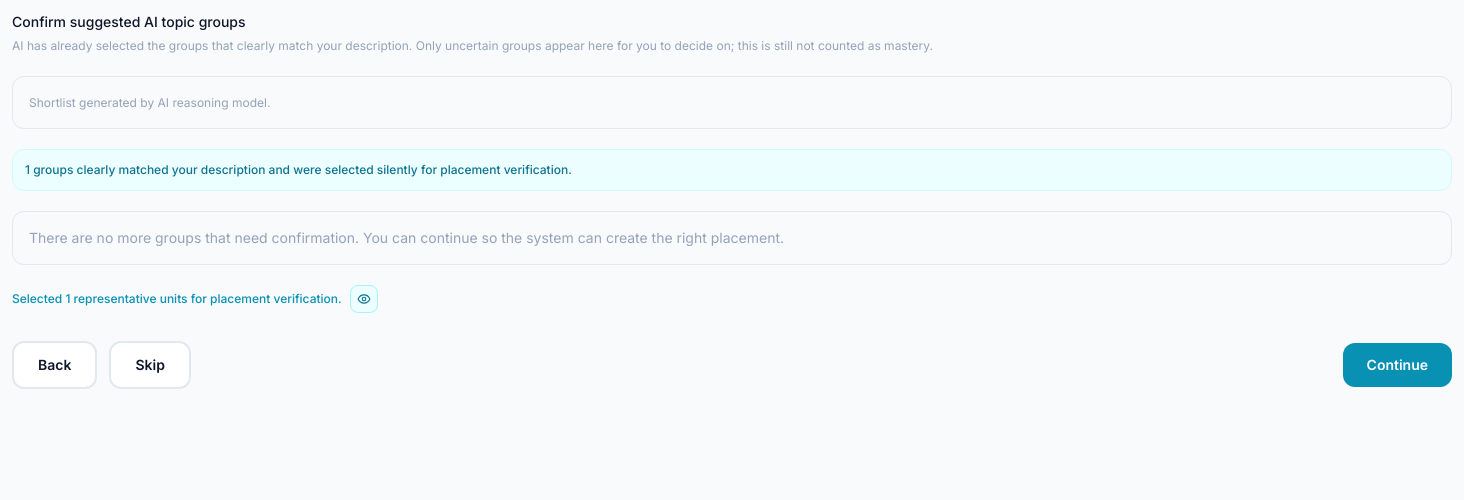
Test case: StepKnownTopicsFiltered › lets the user inspect selected representative units
Click the button named "View selected units" at (364, 299), box [350, 285, 378, 313]
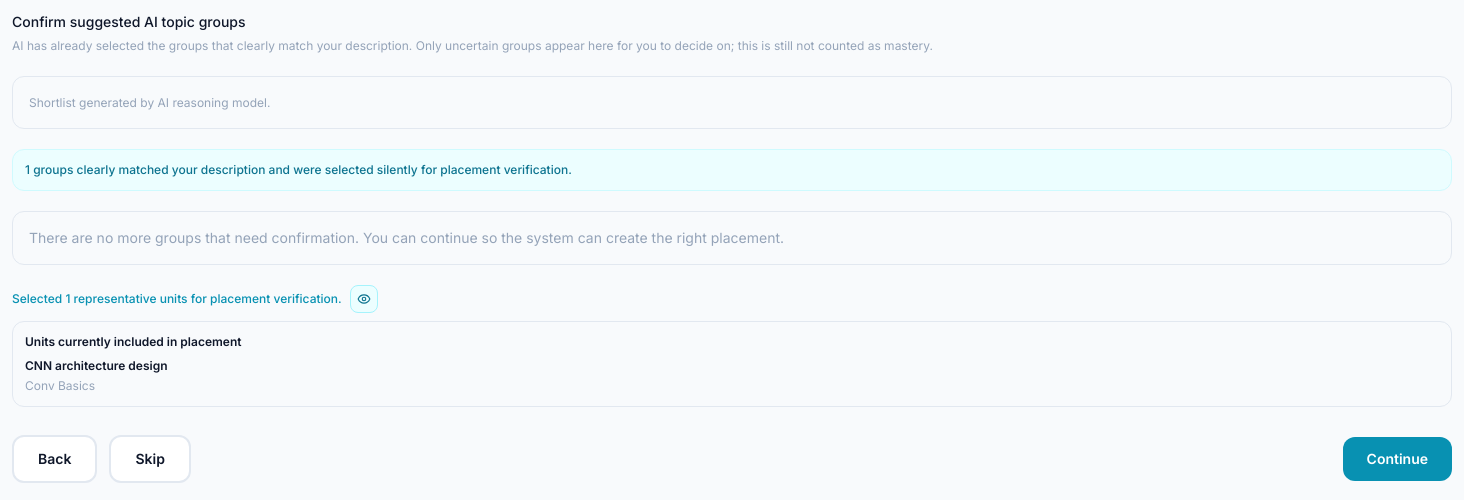
Now the text "CNN architecture design" is shown, box [25, 358, 168, 373]
Now the list item "Conv Basics" is shown, box [25, 378, 95, 393]
